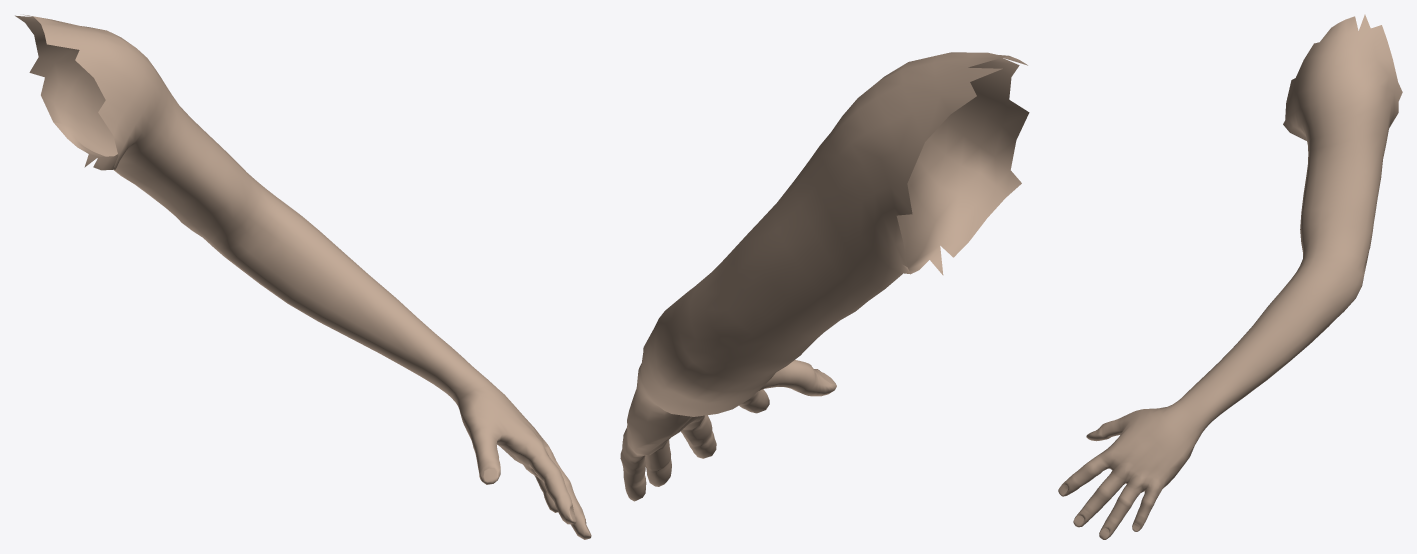
Rendered from right_arm.glb.
3 renders of one model, left to right at view 1: azimuth 30°, elevation 25°; view 2: azimuth 150°, elevation 25°; view 3: azimuth 270°, elevation 25°, orthographic. The views are drawn at different scales.
Visible parts, largest first — view 1: base_humanMesh_base_human_0.003; view 2: base_humanMesh_base_human_0.003; view 3: base_humanMesh_base_human_0.003.
Part boxes in pixels (x1,y1,x2,y2): base_humanMesh_base_human_0.003: [15, 14, 591, 539]; base_humanMesh_base_human_0.003: [620, 52, 1029, 501]; base_humanMesh_base_human_0.003: [1058, 14, 1402, 539].
Size of the model in its own units: 0.5153 by 0.6081 by 0.5024.
